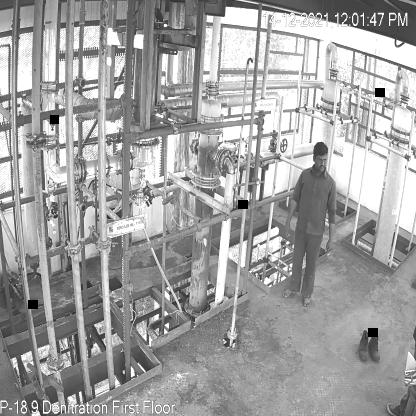no_shoes: (280, 288, 298, 298), (300, 296, 312, 310)
shoes: (357, 329, 373, 363), (369, 331, 382, 361)
